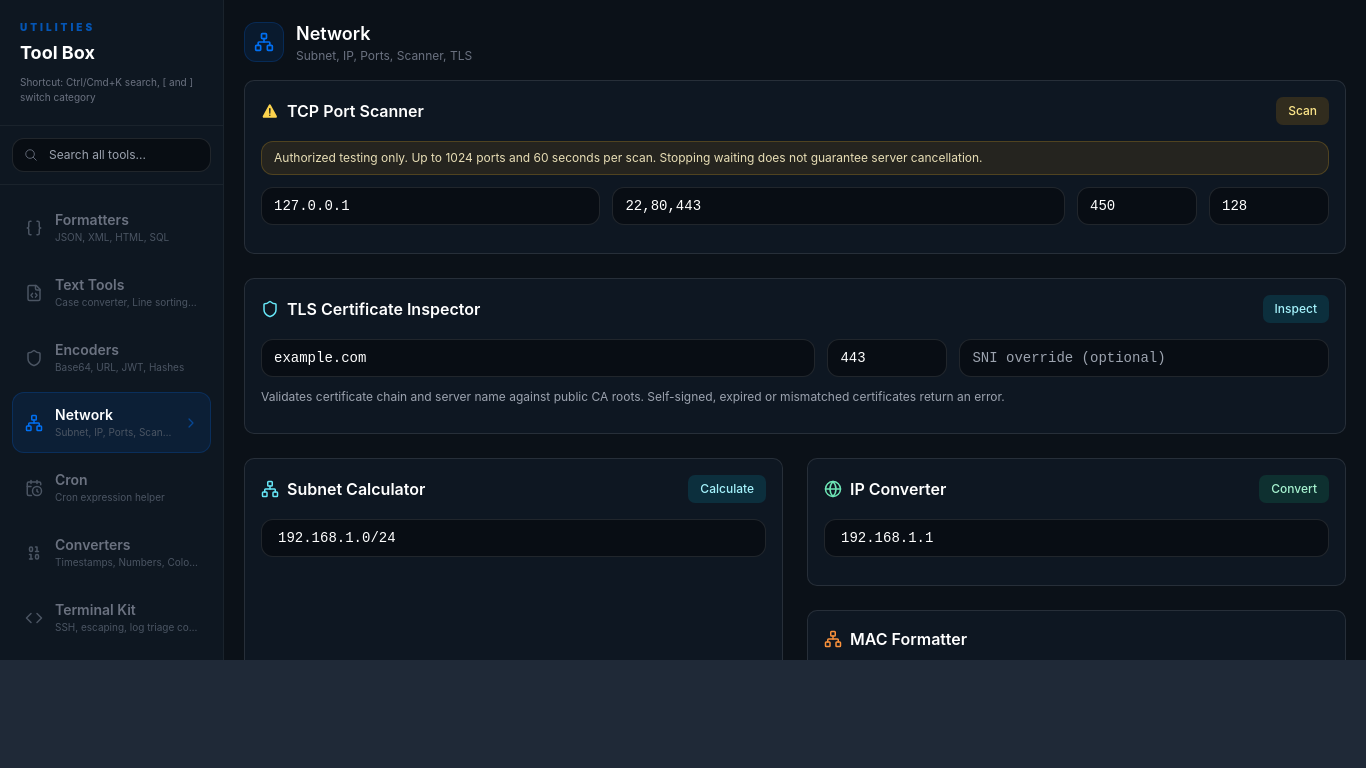
Test: Toolbox network workflows › shows a backend error without presenting an empty scan as success
Click the button "Scan" at (1303, 111), box [1276,97,1329,125]
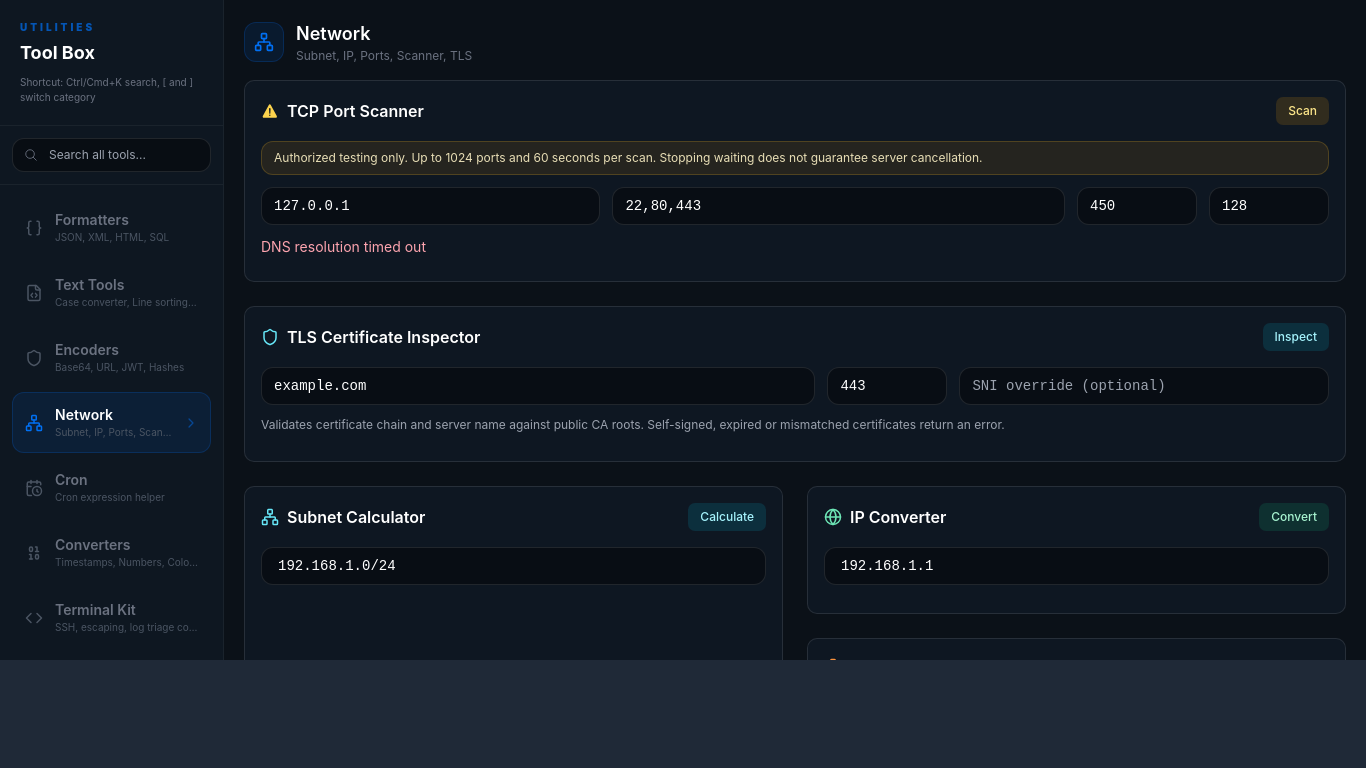
Now the message reads "DNS resolution timed out", box [261,238,426,255]
